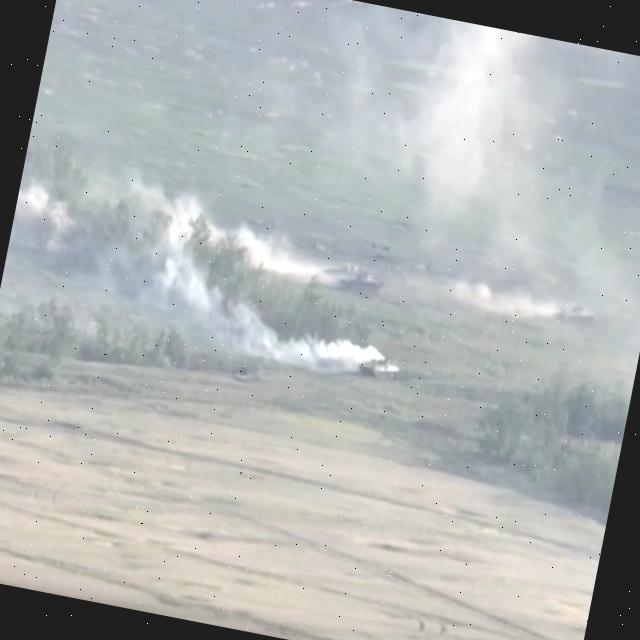AIFV: (549, 296, 601, 334), (333, 265, 390, 299), (355, 352, 406, 385)
